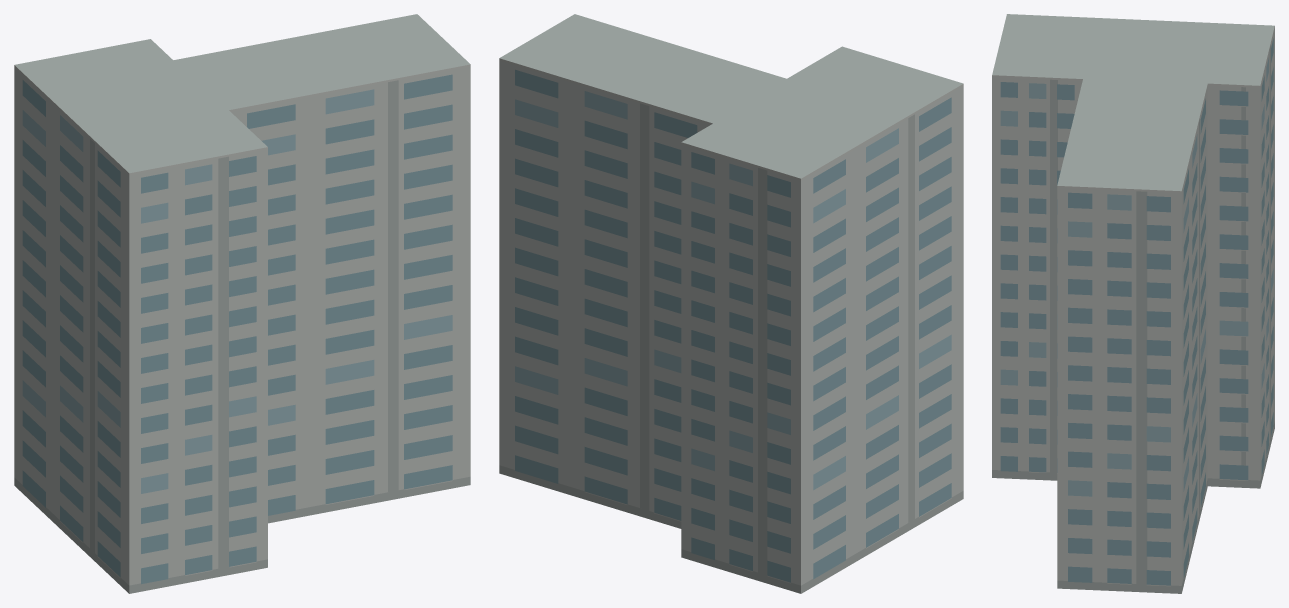
The model's file is residential-6a02de5d-5dc9-43c8-a709-6ca747d1c020.glb.
3 renders of one model, left to right at view 1: azimuth 30°, elevation 25°; view 2: azimuth 150°, elevation 25°; view 3: azimuth 270°, elevation 25°, orthographic. The views are drawn at different scales.
Visible parts, largest first — view 1: residential-6a02de5d-5dc9-43c8-a709-6ca747d1c020.tmp; view 2: residential-6a02de5d-5dc9-43c8-a709-6ca747d1c020.tmp; view 3: residential-6a02de5d-5dc9-43c8-a709-6ca747d1c020.tmp.
Part boxes in pixels (bbox=[...]): residential-6a02de5d-5dc9-43c8-a709-6ca747d1c020.tmp: bbox=[14, 14, 470, 593]; residential-6a02de5d-5dc9-43c8-a709-6ca747d1c020.tmp: bbox=[499, 14, 963, 593]; residential-6a02de5d-5dc9-43c8-a709-6ca747d1c020.tmp: bbox=[992, 14, 1274, 593].
Bounding box in the file's own units: 45.3 × 48 × 30.56.
